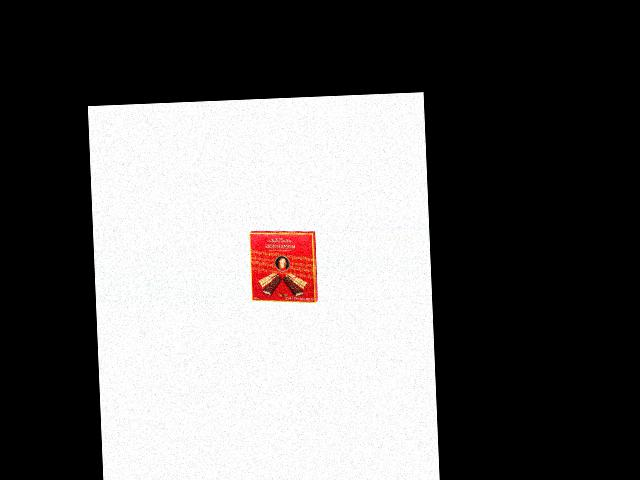chocolate: (247, 229, 318, 307)
